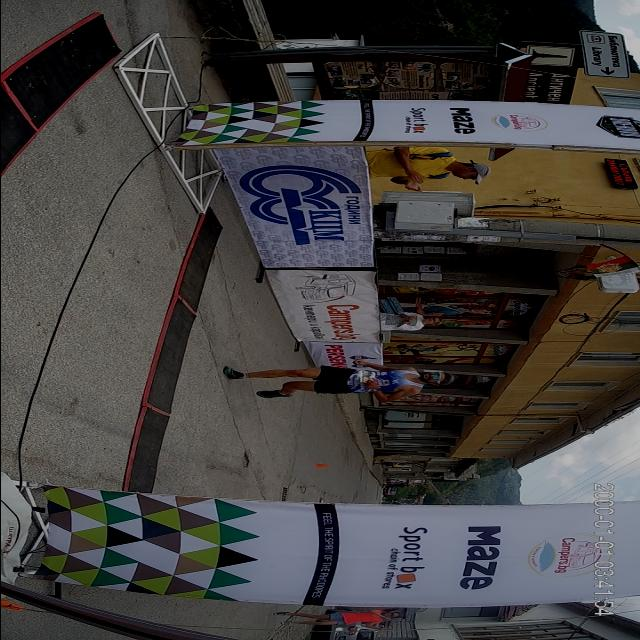runner: (208, 347, 458, 412)
